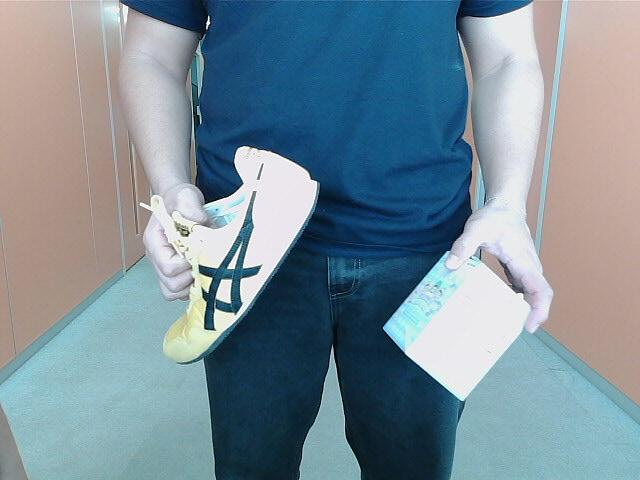Blind_box: (383, 252, 537, 402)
Shoes: (156, 146, 322, 372)
